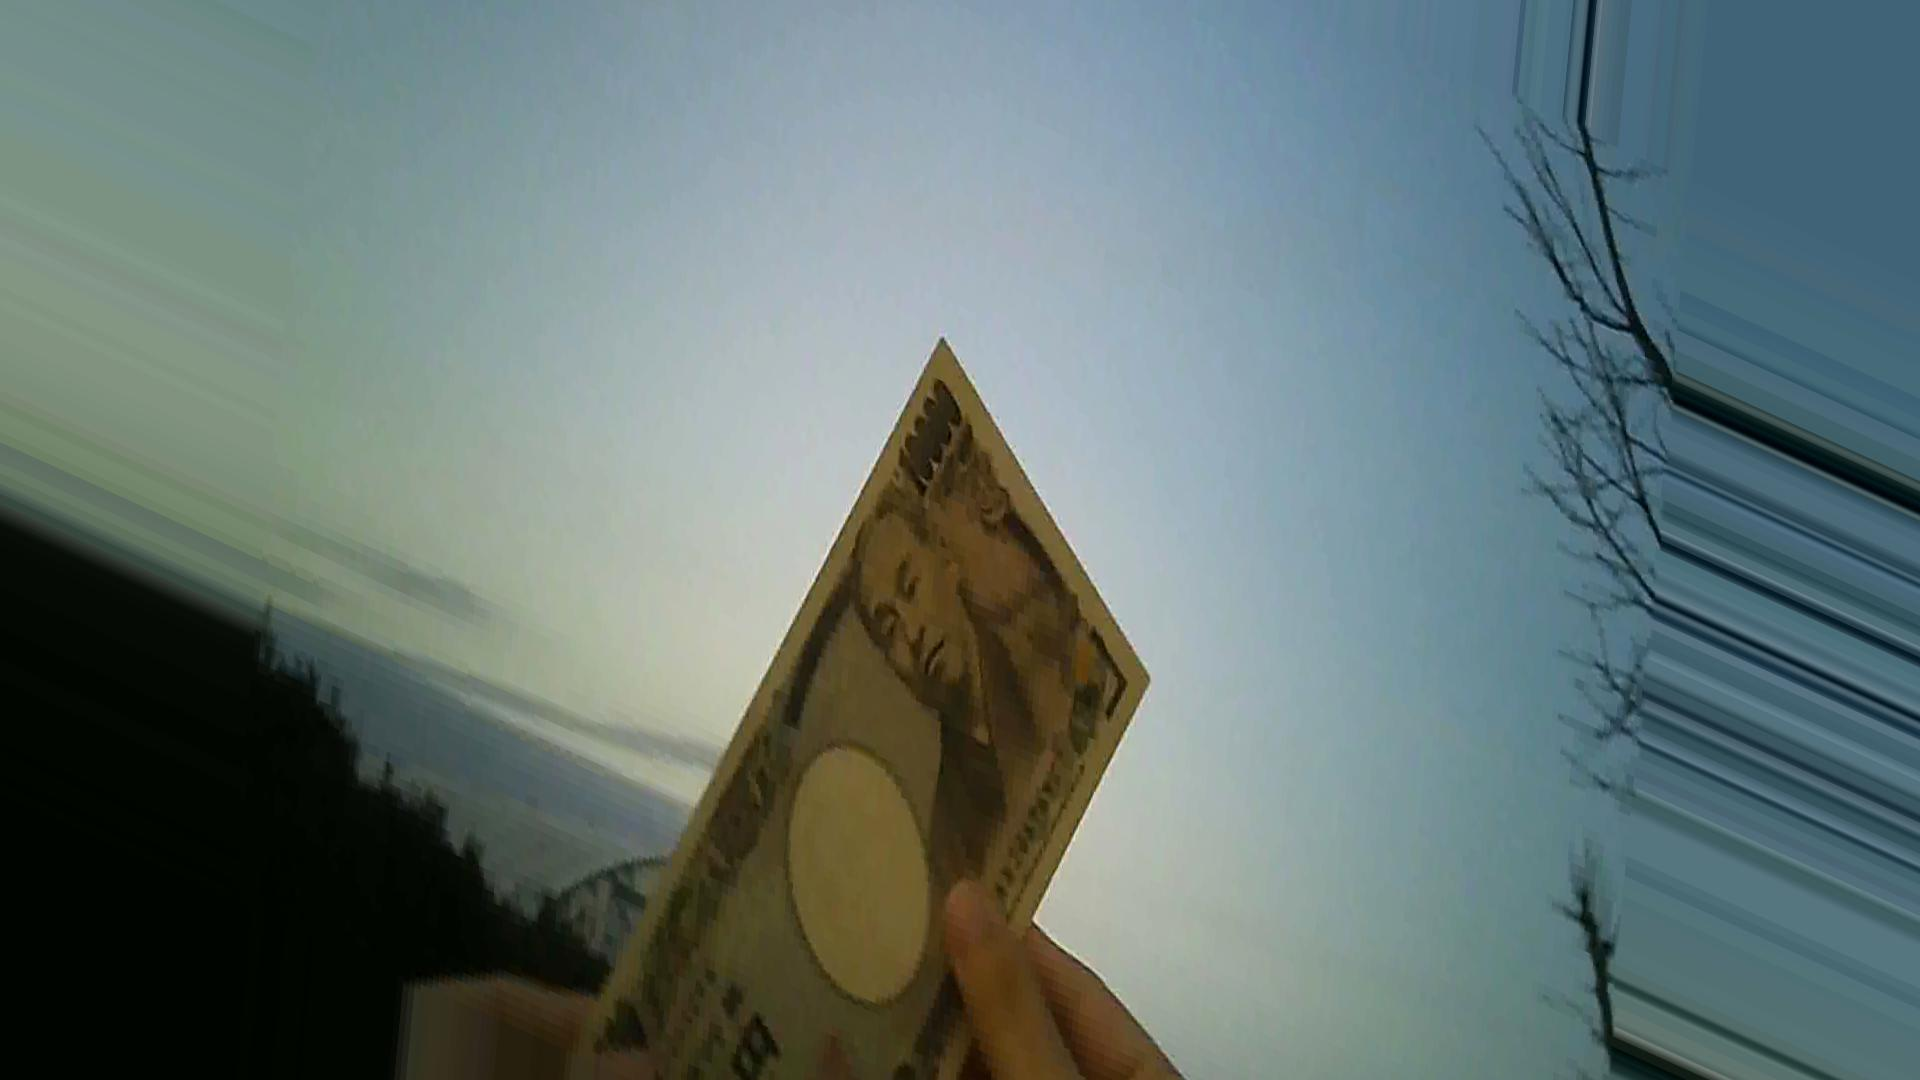10,000 Yen: (605, 280, 1145, 1054)
